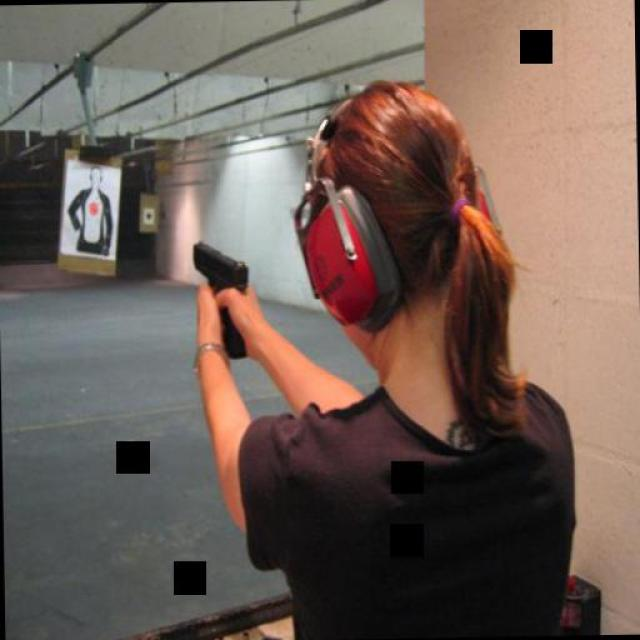gun: (188, 240, 248, 361)
